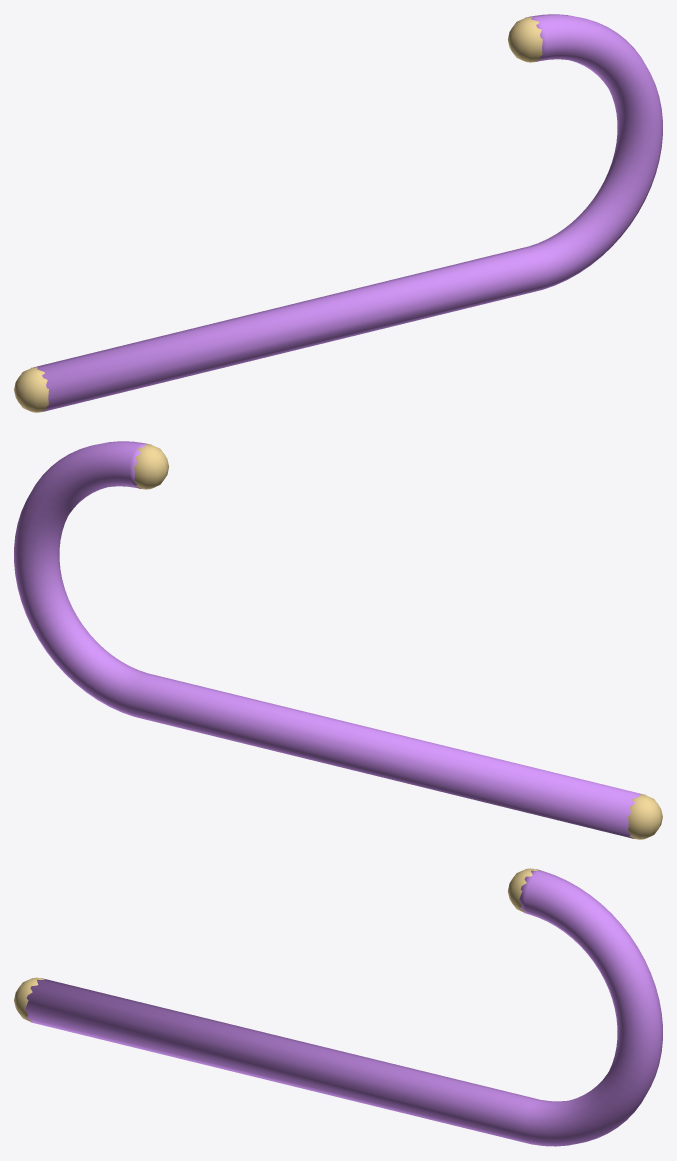
Rendered from cane-DJ6copfg.glb.
3 views of the same model, one above another, from view 1: azimuth 30°, elevation 25°; view 2: azimuth 150°, elevation 25°; view 3: azimuth 330°, elevation 25° (orthographic).
Parts seen in each view (by area): view 1: R3D_cane_Body_0, R3D_cane_Tip_1, R3D_cane_Tip_0; view 2: R3D_cane_Body_0, R3D_cane_Tip_1, R3D_cane_Tip_0; view 3: R3D_cane_Body_0, R3D_cane_Tip_1, R3D_cane_Tip_0.
Part boxes in pixels (bbox=[...]): R3D_cane_Body_0: bbox=[31, 14, 662, 411]; R3D_cane_Tip_1: bbox=[508, 17, 542, 62]; R3D_cane_Tip_0: bbox=[14, 367, 48, 412]; R3D_cane_Body_0: bbox=[14, 441, 645, 838]; R3D_cane_Tip_1: bbox=[134, 444, 168, 489]; R3D_cane_Tip_0: bbox=[628, 794, 662, 839]; R3D_cane_Body_0: bbox=[25, 869, 662, 1146]; R3D_cane_Tip_1: bbox=[508, 868, 538, 912]; R3D_cane_Tip_0: bbox=[14, 977, 44, 1021].
Size of the model in its own units: 2.93 by 1.18 by 0.18.
